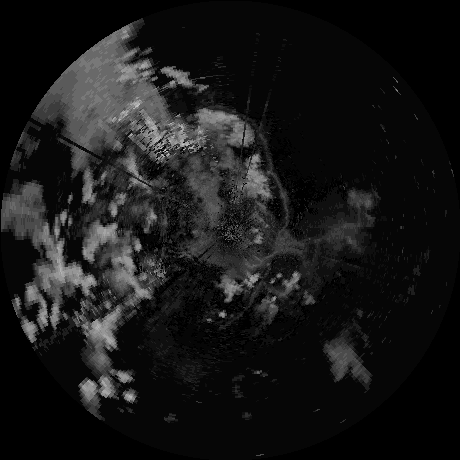frontgust: (221, 272, 269, 329), (267, 169, 290, 220), (263, 224, 287, 260), (256, 132, 274, 167)
